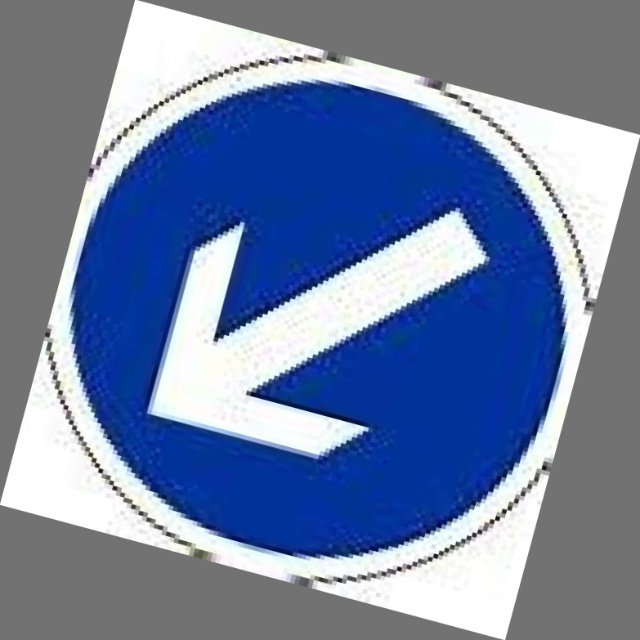R.301e: (1, 0, 636, 634)
